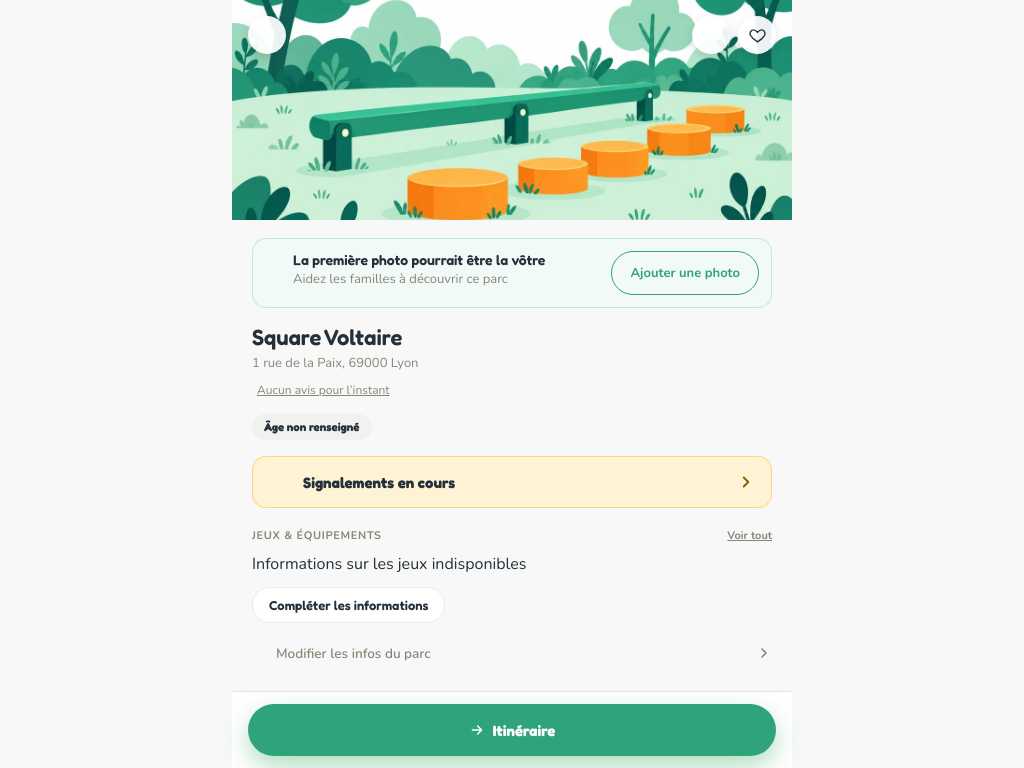
Test: ParkDetail — bannière compacte et réponse dans le sheet › plusieurs signalements : pluriel, résumé, la réponse cible celui qui est choisi
The width and height of the screenshot is (1024, 768).
Click the button "Signalements en cours".
click(379, 482)  # box [252,456,772,508]
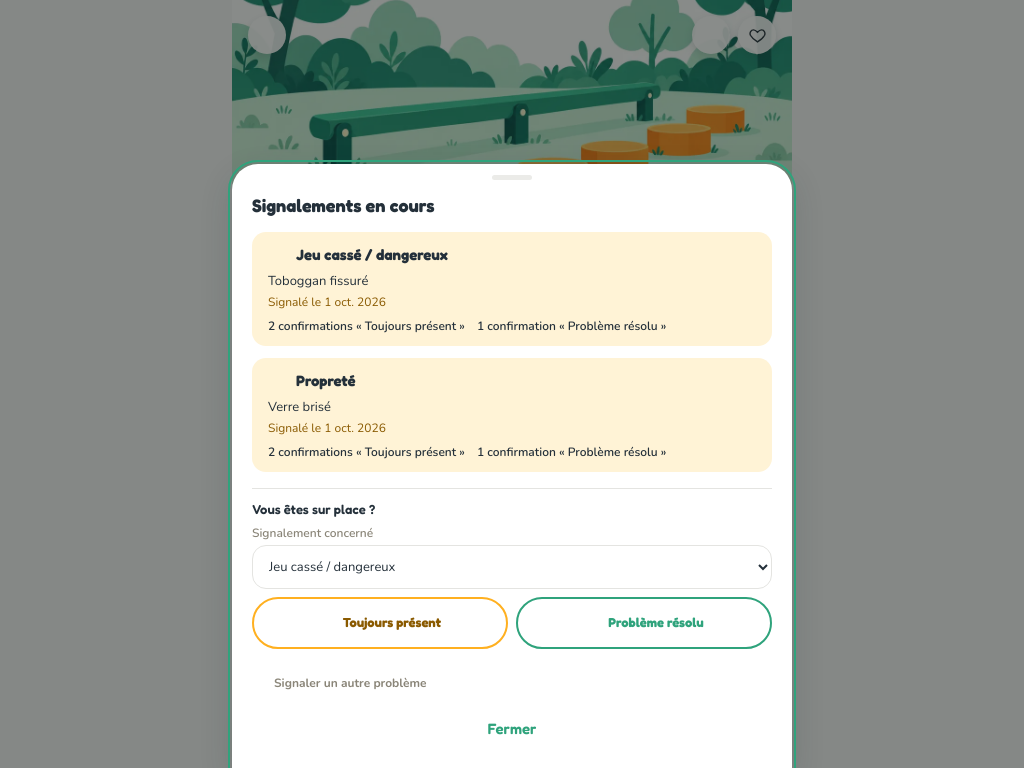
Select "Propreté" in the dropdown at point(512, 567), box [252,545,772,589]
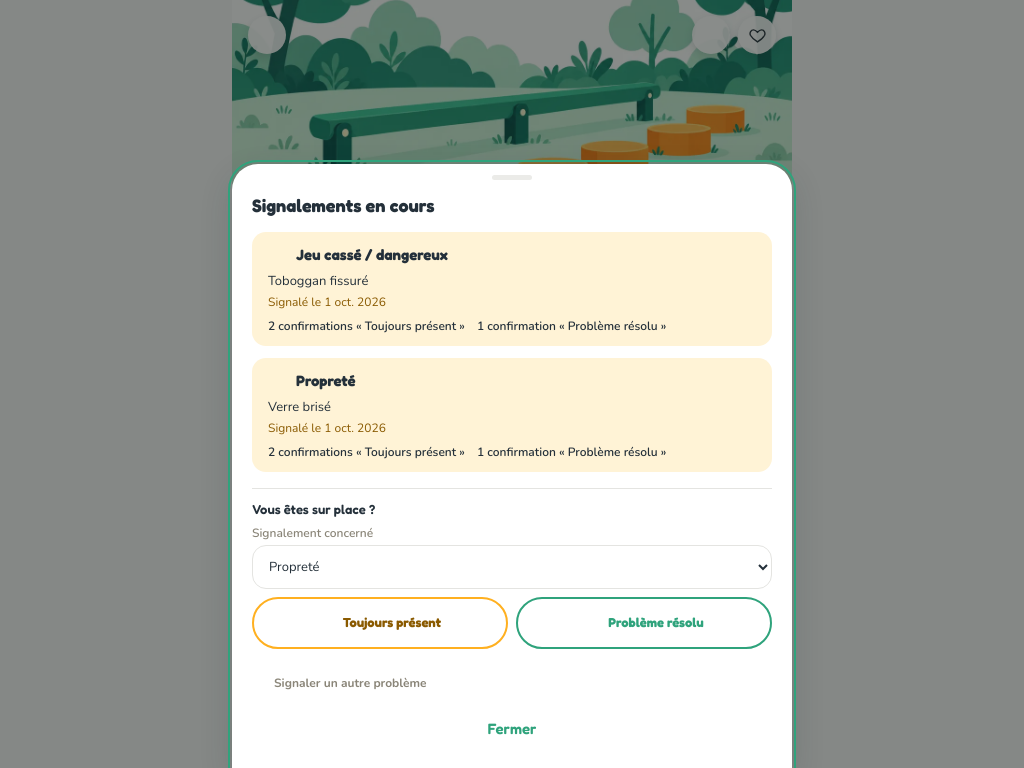
Click the button "Problème résolu".
click(644, 623)  # box [516,597,772,649]
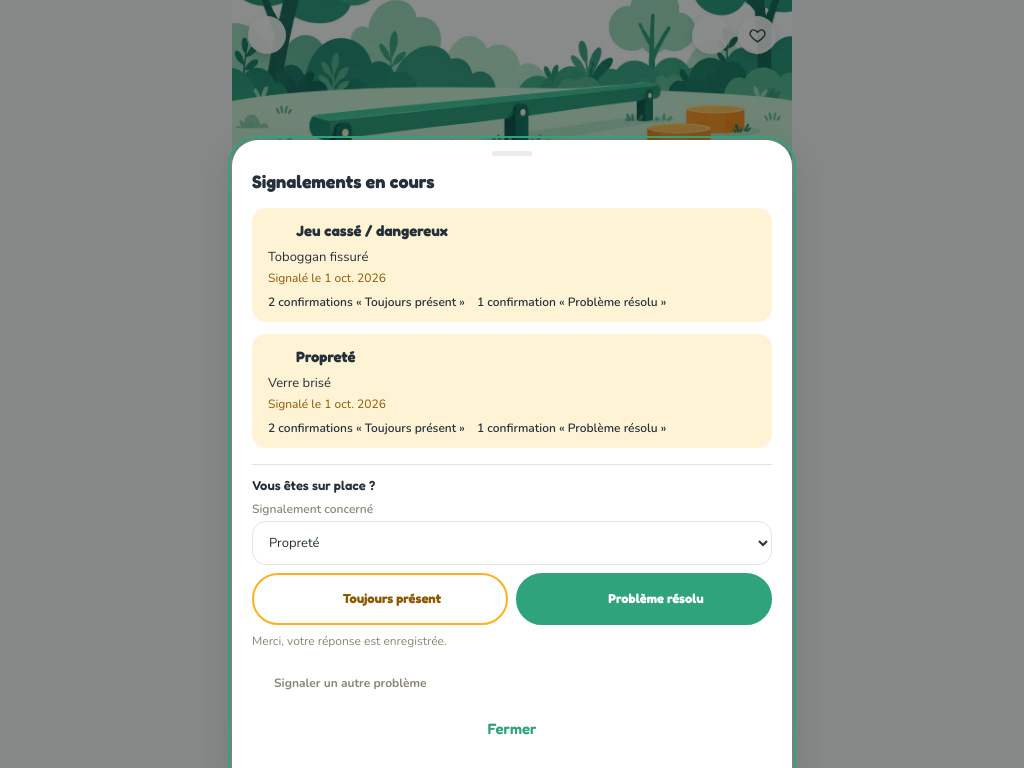
expect the text "Vous avez répondu à 1 sur 2 signalements" is shown: met, box [303,490,553,508]
